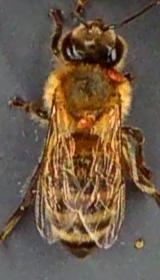varroa_mite: (73, 112, 99, 138), (106, 64, 125, 90)
